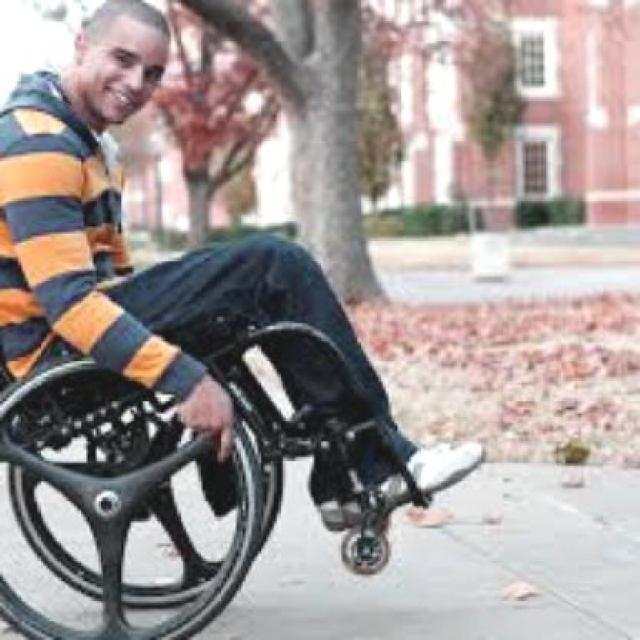wheelchairs: (2, 252, 442, 629)
